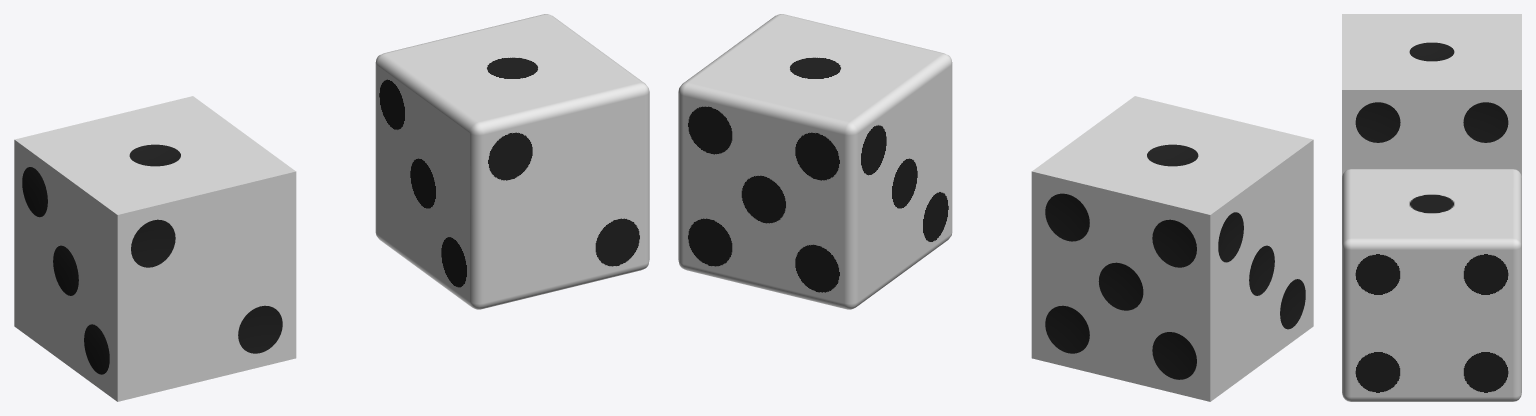
Rendered from die.glb.
3 views of the same model, side by side, from view 1: azimuth 30°, elevation 25°; view 2: azimuth 150°, elevation 25°; view 3: azimuth 270°, elevation 25° (orthographic). The views are drawn at different scales.
Parts seen in each view (by area): view 1: Cube-noimp, Die; view 2: Cube-noimp, Die; view 3: Die, Cube-noimp.
Boxes of the visible parts, left/top/right/bottom form: Cube-noimp: left=14, top=96, right=296, bottom=401; Die: left=375, top=14, right=649, bottom=309; Cube-noimp: left=1031, top=96, right=1313, bottom=401; Die: left=678, top=14, right=952, bottom=309; Die: left=1342, top=169, right=1521, bottom=401; Cube-noimp: left=1342, top=14, right=1521, bottom=177.
Bounding box in the file's own units: 6 × 2 × 2.
Materials: 3 (1 with a texture image).
